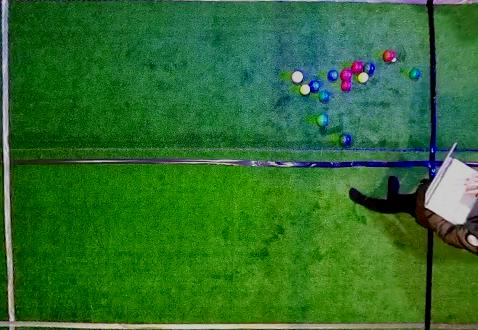blue: (328, 70, 338, 81), (310, 81, 320, 92)
green: (316, 114, 328, 126), (339, 134, 351, 146), (363, 63, 375, 74), (409, 68, 420, 80), (319, 91, 329, 102)
red: (382, 50, 395, 62), (351, 61, 363, 73), (340, 68, 352, 80), (291, 71, 303, 83), (341, 80, 351, 91)
vline: (428, 1, 477, 176), (0, 1, 18, 329), (424, 228, 478, 329)
white: (391, 58, 396, 62)
yellow: (358, 72, 368, 83), (300, 84, 310, 95)
